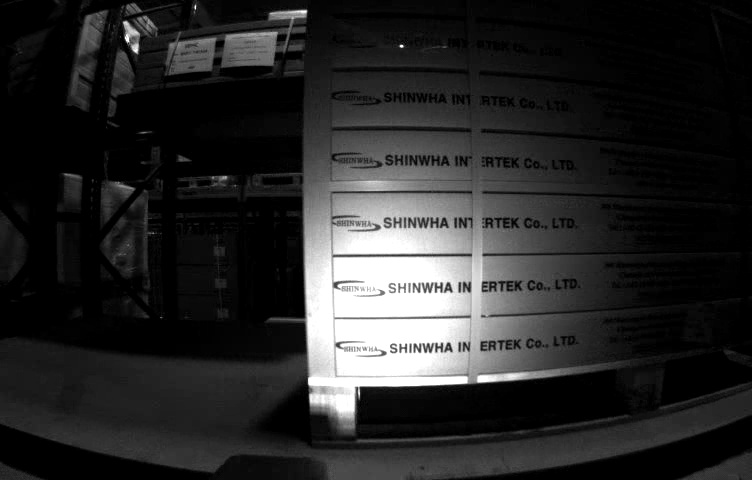True Barcode: (678, 302, 720, 343)
